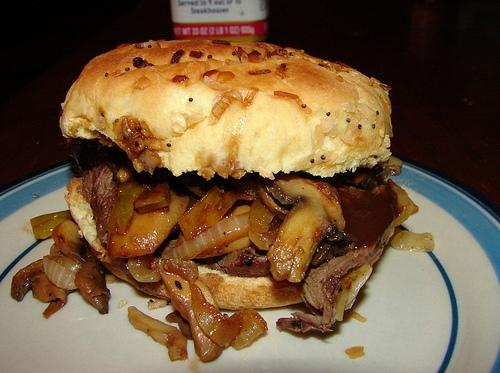onion: (107, 190, 190, 257), (161, 212, 249, 260), (189, 282, 241, 348), (128, 306, 188, 362), (178, 185, 237, 241), (332, 263, 372, 322), (105, 179, 144, 233), (30, 210, 74, 240), (42, 256, 78, 290), (386, 227, 434, 252), (127, 252, 162, 282), (248, 198, 274, 236)
